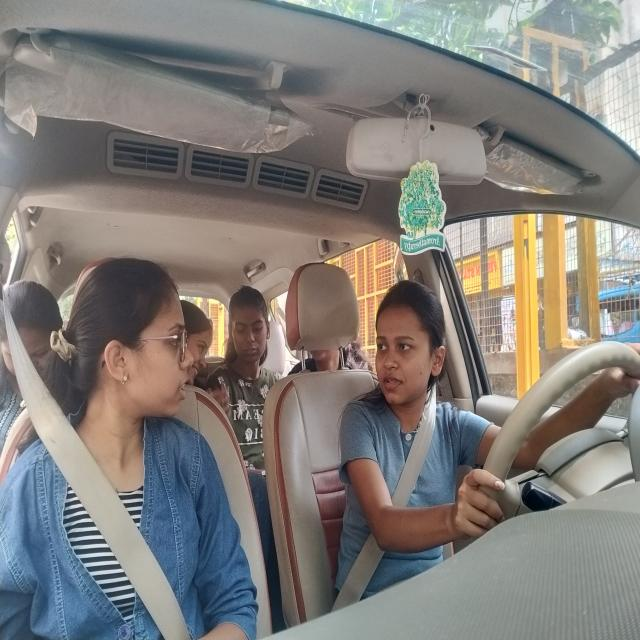LeftRight: (376, 276, 449, 420)
person: (75, 256, 193, 434), (0, 281, 66, 408), (230, 288, 270, 373), (184, 297, 214, 389)
talking: (381, 373, 407, 396), (176, 377, 192, 407)
